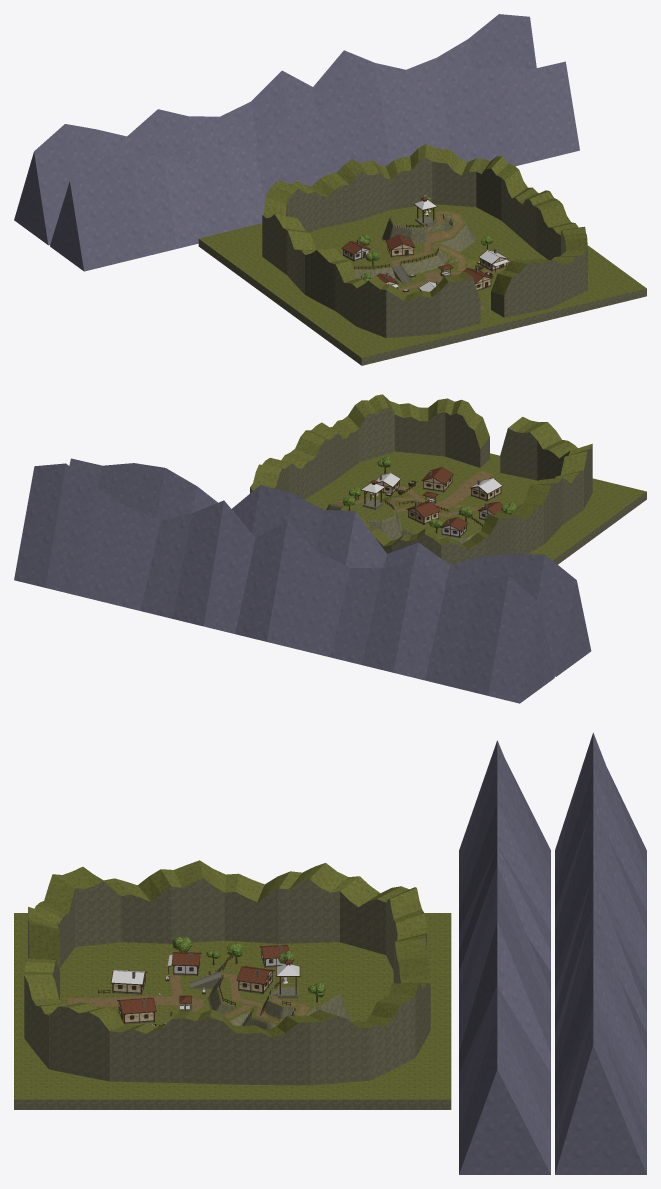
The model's file is Mossbell.obj.
The picture shows the model from 3 angles, top to bottom: view 1: azimuth 30°, elevation 25°; view 2: azimuth 150°, elevation 25°; view 3: azimuth 270°, elevation 25°; orthographic projection. The views are drawn at different scales.
Visible parts, largest first — view 1: Mountain, EarthCliff, Grass, PathBlend, Wood, RoofTiles, Masonry; view 2: Mountain, EarthCliff, Grass, Wood, PathBlend, RoofTiles, Leaves, HousePlaster, RoofSlate, Masonry; view 3: Mountain, EarthCliff, Grass, PathBlend, Wood, RoofTiles, Masonry, Leaves, HousePlaster, RoofSlate.
Boxes of the visible parts, x1,y1,x2,y2 form: Mountain: (14,14,579,271); EarthCliff: (262,144,587,337); Grass: (198,204,646,365); PathBlend: (390,210,500,309); Wood: (341,198,508,292); RoofTiles: (342,196,491,283); Masonry: (343,216,506,291); Mountain: (14,458,591,703); EarthCliff: (250,394,592,564); Grass: (304,451,646,564); Wood: (348,467,502,537); PathBlend: (332,470,495,517); RoofTiles: (371,467,502,530); Leaves: (342,457,516,528); HousePlaster: (376,477,500,522); RoofSlate: (362,472,501,493); Masonry: (362,471,500,537); Mountain: (459,732,646,1174); EarthCliff: (24,860,430,1085); Grass: (14,913,451,1109); PathBlend: (67,966,310,1023); Wood: (98,944,317,1026); RoofTiles: (120,945,291,1013); Masonry: (112,945,298,1024); Leaves: (166,936,325,997); HousePlaster: (113,971,272,1022); RoofSlate: (111,964,299,1024).
Size of what is drawn, in the model's own units: 200 by 42.02 by 165.
